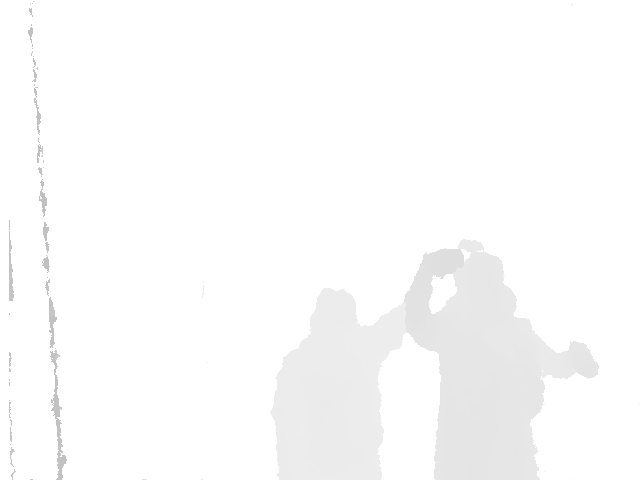head: (453, 238, 507, 305), (310, 288, 358, 343)
person: (404, 238, 601, 480), (271, 288, 408, 480)
